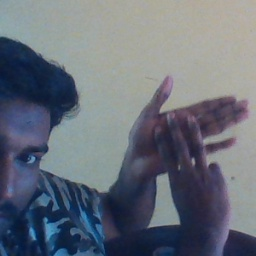M: (123, 72, 249, 227)
